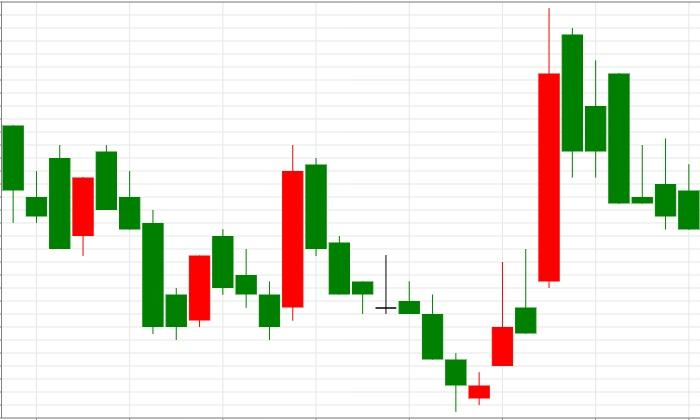morning_star_rise: (305, 158, 514, 413)
